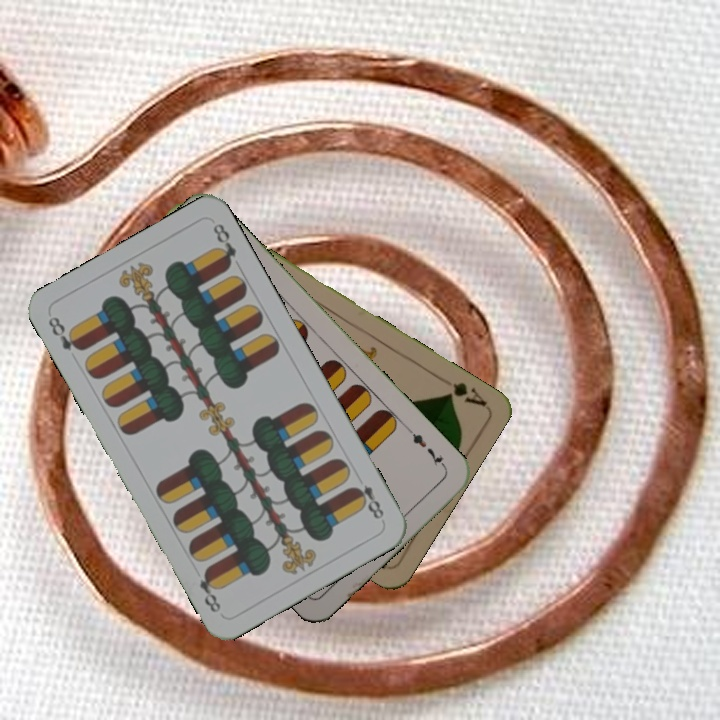E7: (404, 424, 449, 471)
E8: (44, 312, 86, 354), (348, 480, 387, 522)
GA: (441, 378, 489, 409)
